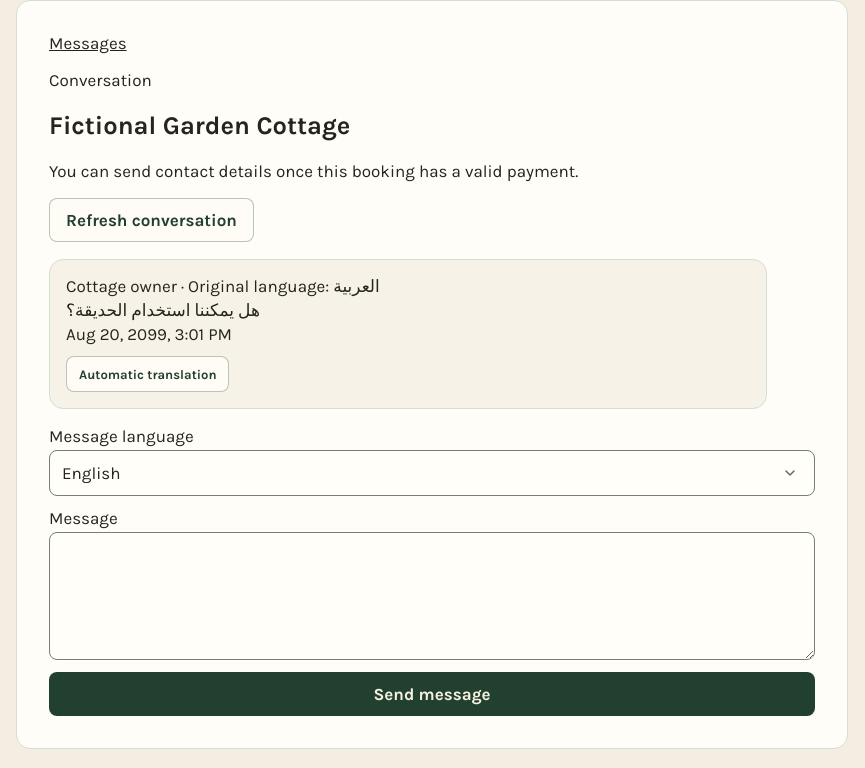
Messaging conversation › keeps the original visible when translation is unavailable
Click the button "Automatic translation": click(148, 374) x1=66 y1=356 x2=230 y2=392
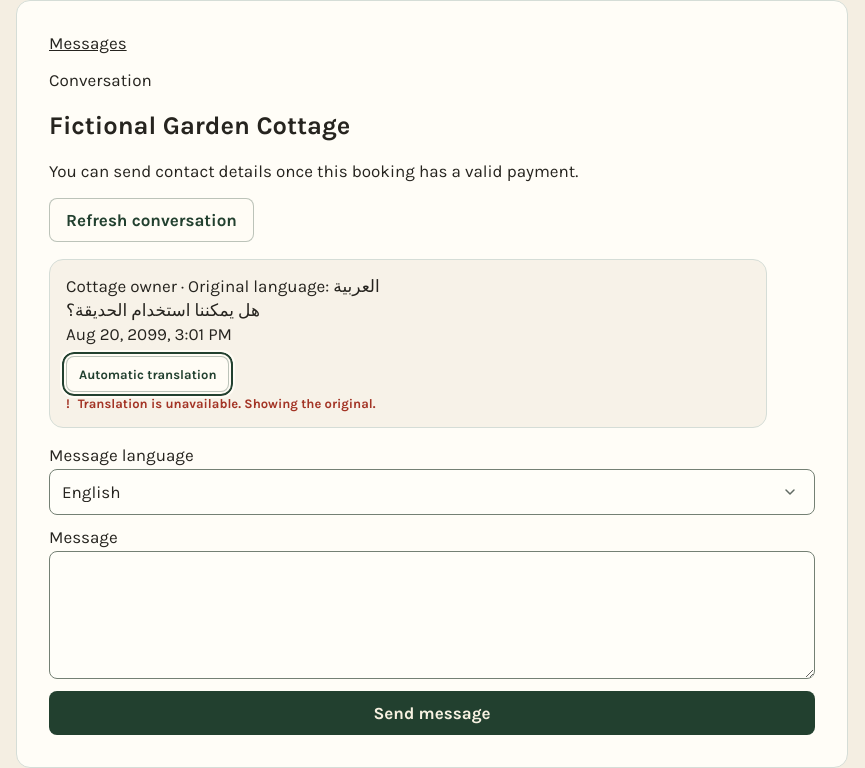
expect the text "هل يمكننا استخدام الحديقة؟" is shown: met, box x1=66 y1=300 x2=260 y2=320
expect the text "Translation is unavailable. Showing the original." is shown: met, box x1=78 y1=396 x2=376 y2=411
